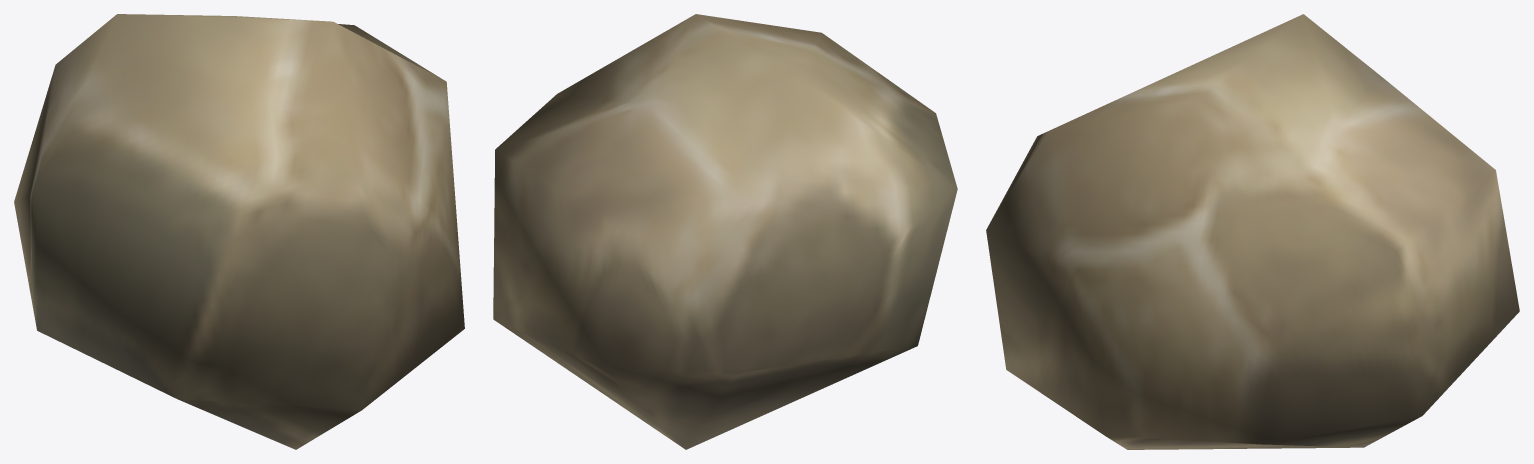
The model's file is Orc_Catapult_stone.FBX.
3 views of the same model, side by side, from view 1: azimuth 30°, elevation 25°; view 2: azimuth 150°, elevation 25°; view 3: azimuth 270°, elevation 25° (orthographic). The views are drawn at different scales.
Parts seen in each view (by area): view 1: Orc_Catapult_stone; view 2: Orc_Catapult_stone; view 3: Orc_Catapult_stone.
Boxes of the visible parts, x1,y1,x2,y2 form: Orc_Catapult_stone: (14,14,464,449); Orc_Catapult_stone: (493,14,957,449); Orc_Catapult_stone: (986,14,1519,449).
Size of the model in its own units: 19.18 by 17.19 by 21.22.
